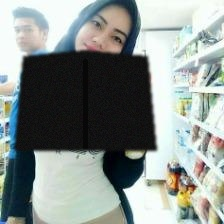Cadar_Niqab: (14, 0, 156, 150)
